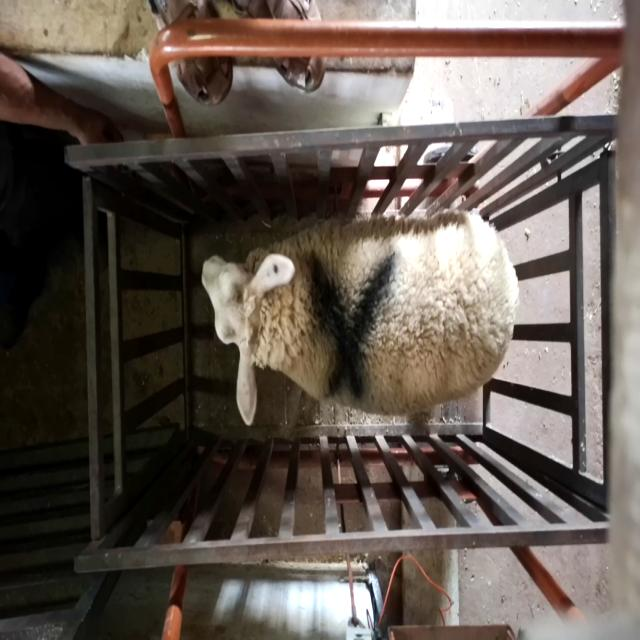sheep: (200, 209, 519, 429)
